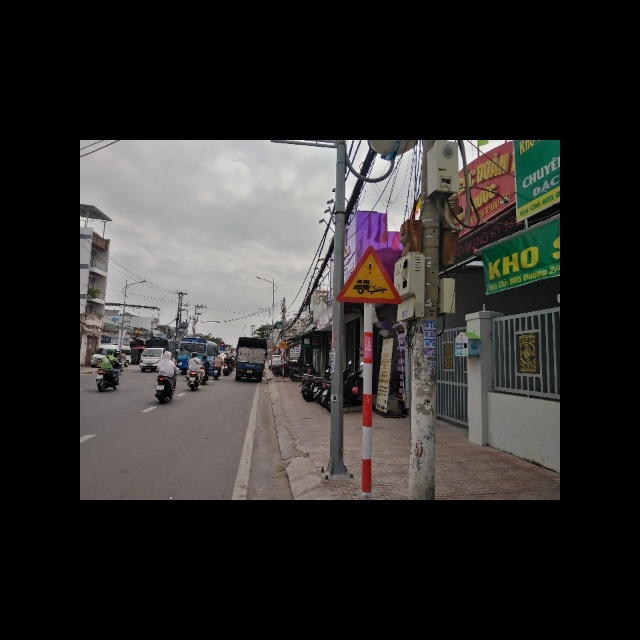Đoạn đường hay xảy ra tai nạn: (337, 245, 401, 303)
Đường đôi: (277, 338, 290, 350)
